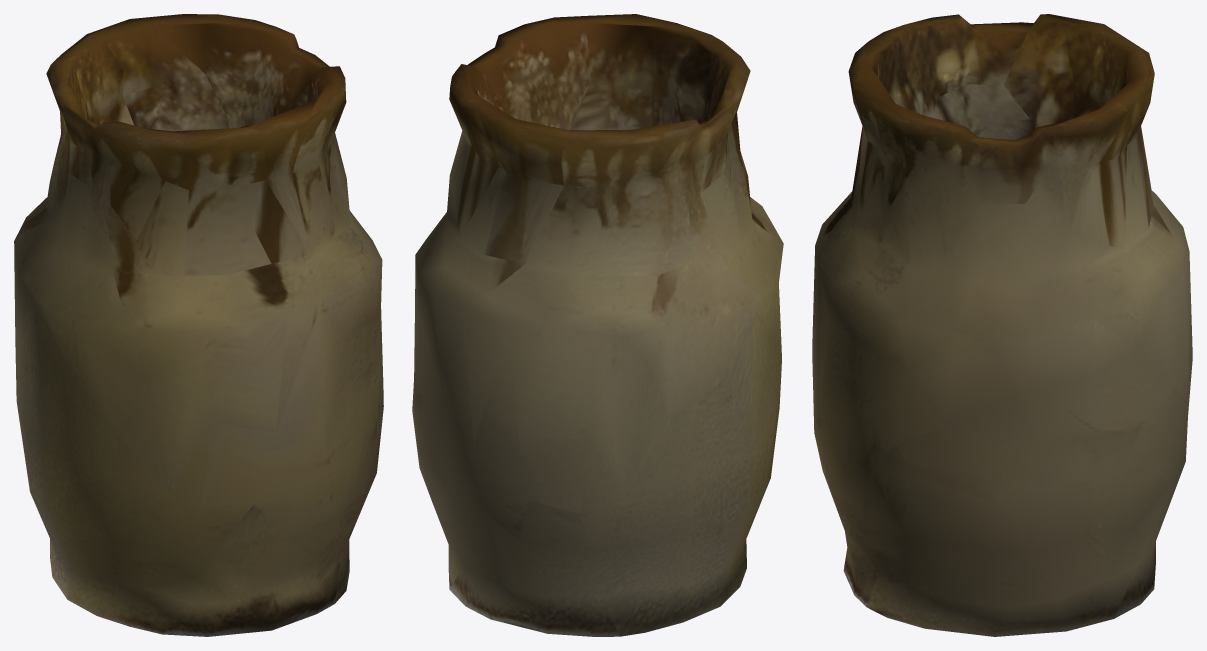
Rendered from MaterialPlace_04.glb.
3 renders of one model, left to right at view 1: azimuth 30°, elevation 25°; view 2: azimuth 150°, elevation 25°; view 3: azimuth 270°, elevation 25°, orthographic.
Parts seen in each view (by area): view 1: Meshy_AI_Row_of_Earthy_Ceramic_0509115641_texture.003; view 2: Meshy_AI_Row_of_Earthy_Ceramic_0509115641_texture.003; view 3: Meshy_AI_Row_of_Earthy_Ceramic_0509115641_texture.003.
Part boxes in pixels (x1,y1,x2,y2): Meshy_AI_Row_of_Earthy_Ceramic_0509115641_texture.003: (14, 14, 383, 636); Meshy_AI_Row_of_Earthy_Ceramic_0509115641_texture.003: (412, 14, 783, 636); Meshy_AI_Row_of_Earthy_Ceramic_0509115641_texture.003: (812, 14, 1192, 636).
Size of the model in its own units: 0.2783 by 0.4143 by 0.2827.
Materials: 1 (1 with a texture image).
